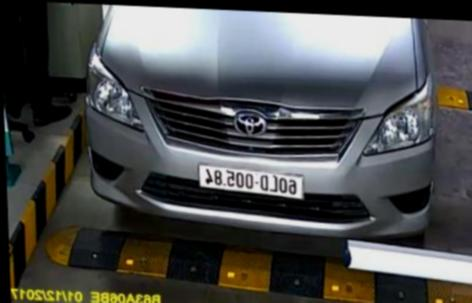License_Plate: (193, 163, 306, 199)
